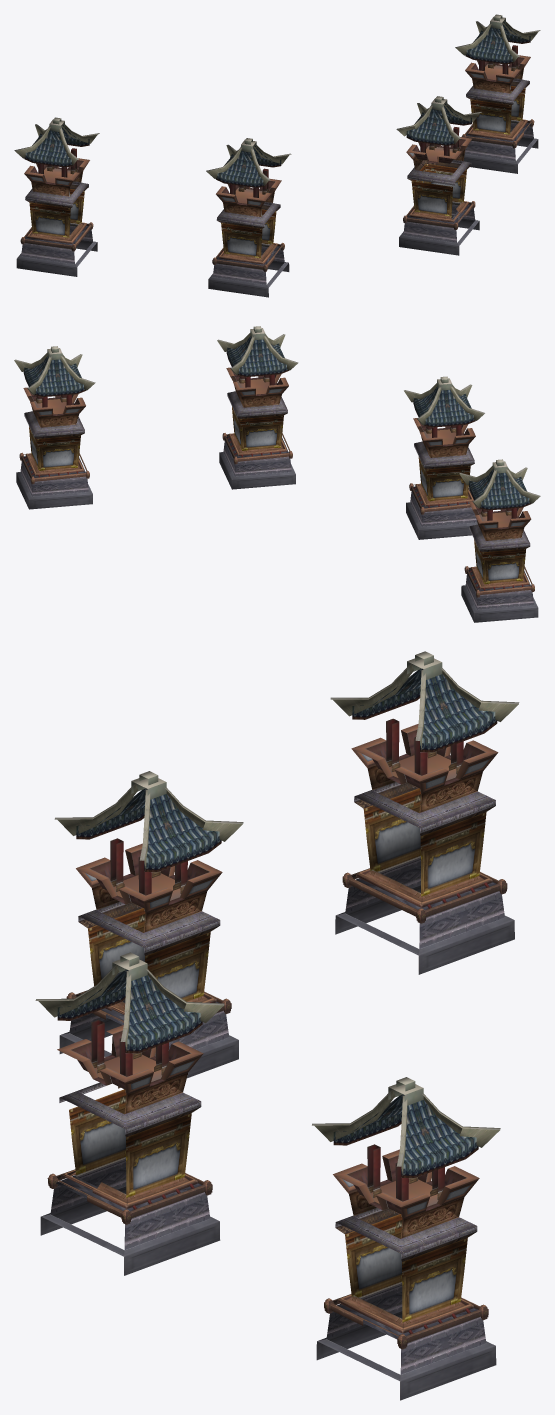
The model's file is combat_01_blueta.FBX.
3 renders of one model, top to bottom at view 1: azimuth 30°, elevation 25°; view 2: azimuth 150°, elevation 25°; view 3: azimuth 270°, elevation 25°, orthographic. The views are drawn at different scales.
Parts seen in each view (by area): view 1: asdasd009, asdasd008, asdasd007, asdasd006; view 2: asdasd009, asdasd007, asdasd006, asdasd008; view 3: asdasd009, asdasd006, asdasd007, asdasd008.
Part boxes in pixels (left/top/right/bottom): asdasd009: left=14, top=117, right=99, bottom=276; asdasd008: left=206, top=138, right=291, bottom=297; asdasd007: left=396, top=96, right=481, bottom=255; asdasd006: left=455, top=14, right=540, bottom=173; asdasd009: left=459, top=459, right=540, bottom=622; asdasd007: left=217, top=326, right=298, bottom=489; asdasd006: left=14, top=346, right=95, bottom=509; asdasd008: left=404, top=376, right=484, bottom=539; asdasd009: left=330, top=651, right=519, bottom=974; asdasd006: left=312, top=1077, right=500, bottom=1400; asdasd007: left=35, top=952, right=224, bottom=1275; asdasd008: left=54, top=771, right=243, bottom=1078.
Bounding box in the file's own units: 75.73 × 19.68 × 30.62.
